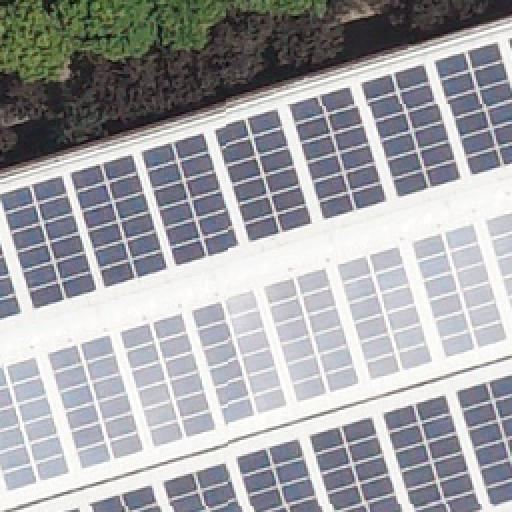solar-panel: (118, 310, 218, 446), (262, 266, 362, 402), (214, 108, 314, 244), (362, 64, 462, 200), (47, 331, 145, 469), (70, 153, 170, 287), (140, 133, 240, 267), (191, 290, 289, 426), (335, 245, 433, 379), (0, 177, 96, 311), (290, 89, 386, 223), (382, 392, 486, 512), (413, 226, 507, 358), (433, 41, 511, 175), (308, 412, 404, 512), (1, 357, 71, 491), (456, 373, 512, 507), (235, 436, 325, 512), (163, 457, 245, 511), (488, 214, 512, 310), (87, 481, 161, 511), (0, 236, 24, 320), (61, 504, 83, 512), (508, 37, 512, 51)
